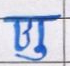u_matra: (14, 45, 50, 61)
